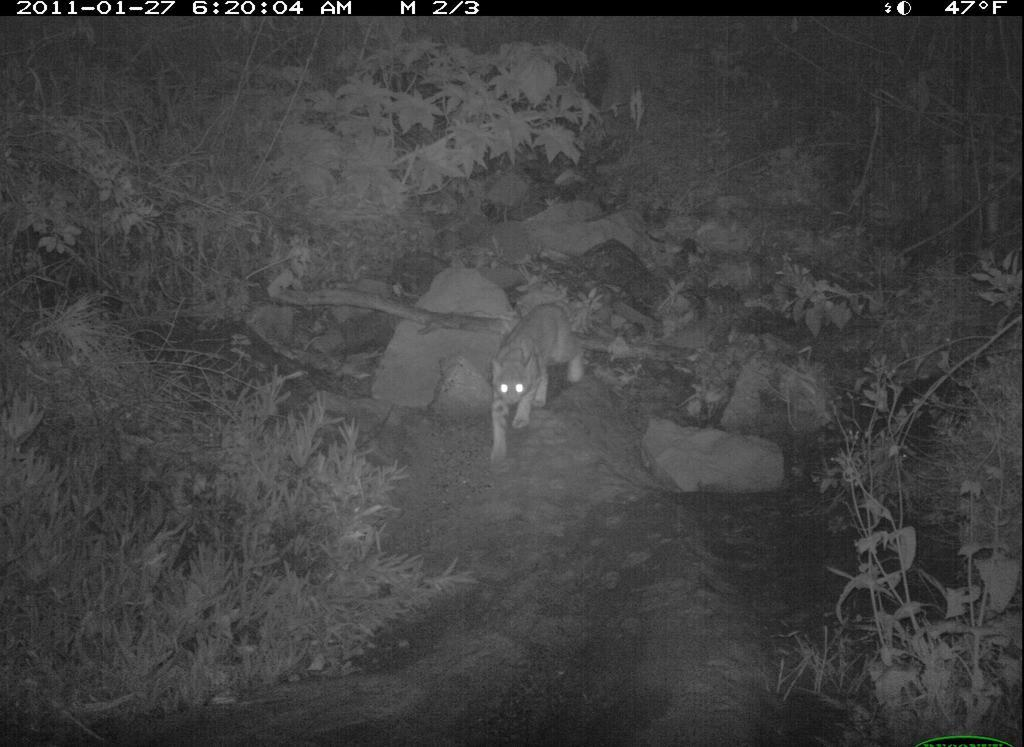bobcat: (489, 296, 609, 472)
